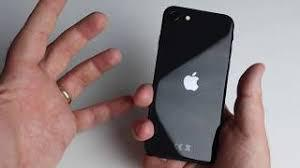1: (6, 0, 131, 168)
Hand: (130, 61, 273, 168)
Smartphone: (146, 8, 230, 153)
